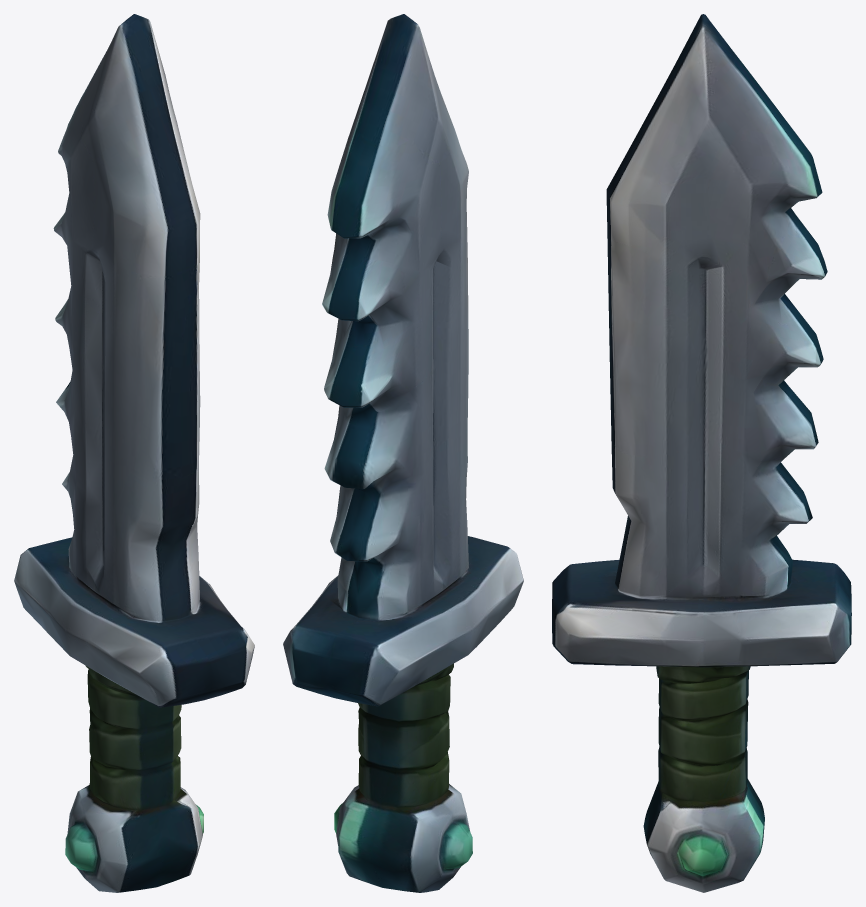
File: w_hunter--dagger.glb
The picture shows the model from 3 angles, left to right: view 1: azimuth 30°, elevation 25°; view 2: azimuth 150°, elevation 25°; view 3: azimuth 270°, elevation 25°; orthographic projection.
Visible parts, largest first — view 1: Weapon; view 2: Weapon; view 3: Weapon.
Boxes of the visible parts, x1=… form: Weapon: x1=14, y1=14, x2=254, y2=892; Weapon: x1=283, y1=14, x2=523, y2=892; Weapon: x1=552, y1=14, x2=851, y2=892.
Size of the model in its own units: 0.1638 by 0.9803 by 0.3072.
Materials: 1 (1 with a texture image).
